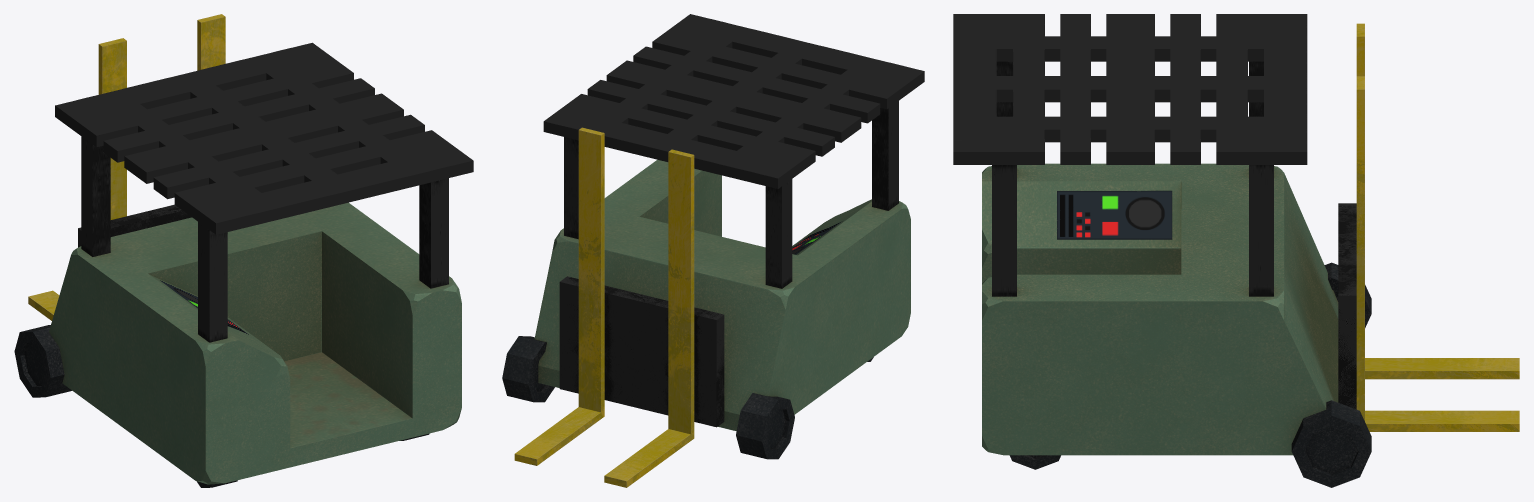
The model's file is forklift (1).fbx.
3 views of the same model, side by side, from view 1: azimuth 30°, elevation 25°; view 2: azimuth 150°, elevation 25°; view 3: azimuth 270°, elevation 25° (orthographic). The views are drawn at different scales.
Visible parts, largest first — view 1: forklift_corps, forklift_top, forklift_poteau, forklift_fork, forklift_roue, forklift_forkBout; view 2: forklift_corps, forklift_top, forklift_fork, forklift_poteau, forklift_roue, forklift_forkBout; view 3: forklift_corps, forklift_top, forklift_poteau, forklift_fork, forklift_forkBout, forklift_roue.
Boxes of the visible parts, box(x1,y1,x2,y2) form: forklift_corps: box(49, 202, 461, 484); forklift_top: box(55, 42, 473, 234); forklift_poteau: box(81, 136, 448, 342); forklift_fork: box(78, 14, 225, 247); forklift_roue: box(14, 325, 429, 487); forklift_forkBout: box(28, 290, 59, 320); forklift_corps: box(534, 159, 910, 431); forklift_top: box(543, 14, 924, 188); forklift_fork: box(559, 127, 724, 440); forklift_poteau: box(564, 101, 898, 288); forklift_roue: box(502, 336, 873, 459); forklift_forkBout: box(514, 407, 690, 487); forklift_corps: box(982, 163, 1338, 455); forklift_top: box(953, 14, 1307, 164); forklift_poteau: box(992, 61, 1273, 296); forklift_fork: box(1338, 23, 1364, 420); forklift_forkBout: box(1365, 358, 1519, 431); forklift_roue: box(1009, 262, 1371, 487).
Size of the model in its own units: 199 by 215 by 311.
